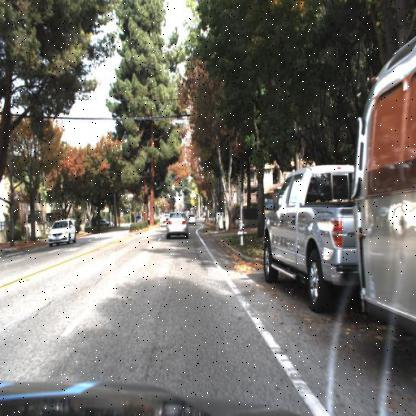car: (160, 203, 194, 245), (43, 212, 77, 252), (45, 218, 77, 249), (182, 203, 197, 224)
truck: (259, 20, 415, 346)
